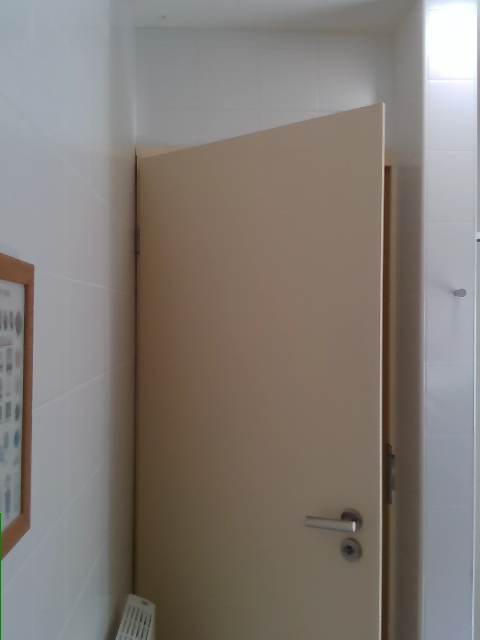closed: (134, 148, 397, 639)
